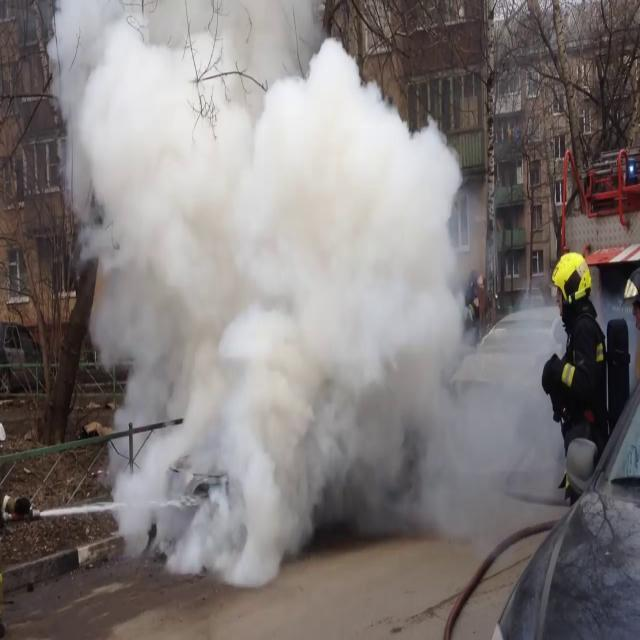Smoke: (43, 3, 490, 588)
